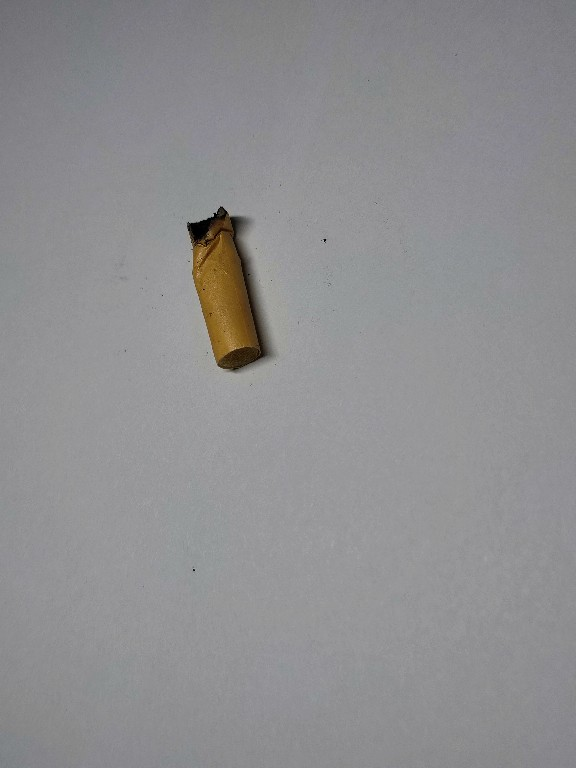cigarette: (184, 205, 267, 374)
